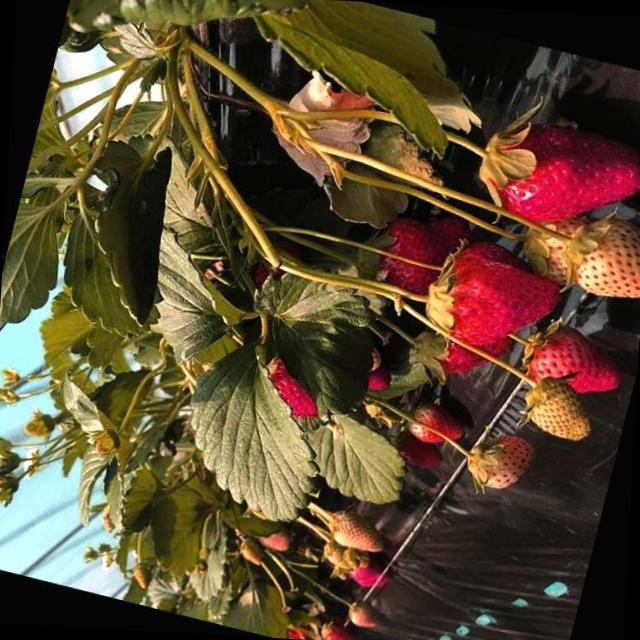ripe: (477, 96, 640, 246), (416, 246, 566, 370), (521, 322, 626, 408), (367, 209, 448, 301), (258, 354, 340, 431), (390, 432, 448, 468), (346, 554, 397, 594), (320, 611, 357, 640)
